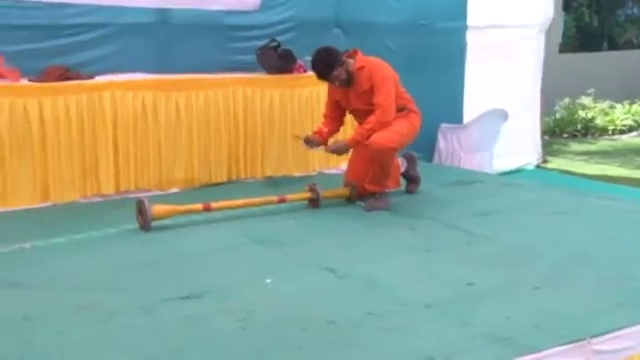helmet_off: (309, 45, 353, 87)
person: (303, 42, 421, 201)
